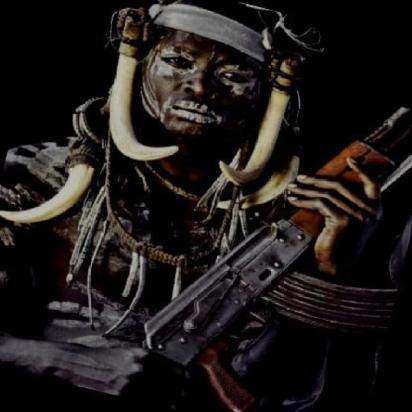Gun: (133, 98, 412, 411)
